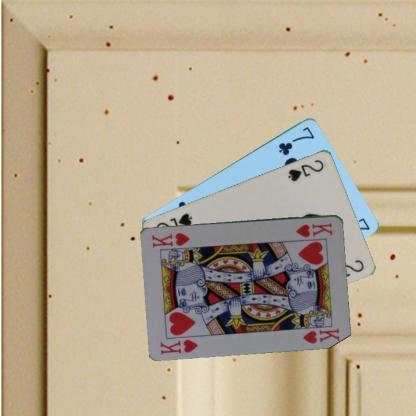2s: (285, 156, 325, 182)
7c: (276, 123, 316, 157)
Kh: (158, 336, 199, 356), (293, 220, 334, 238)
